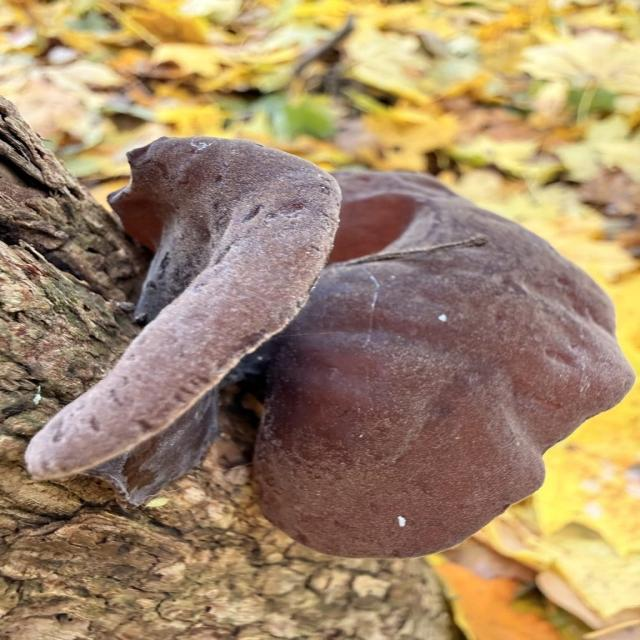Matang: (238, 163, 639, 548), (9, 118, 352, 516)
